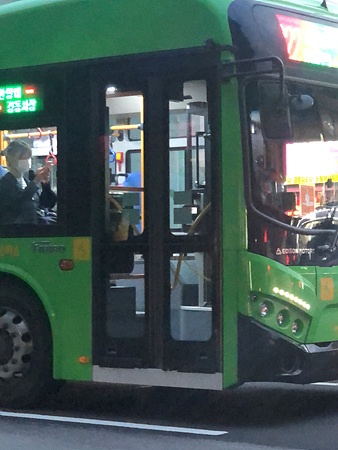entrance: (92, 58, 225, 375)
